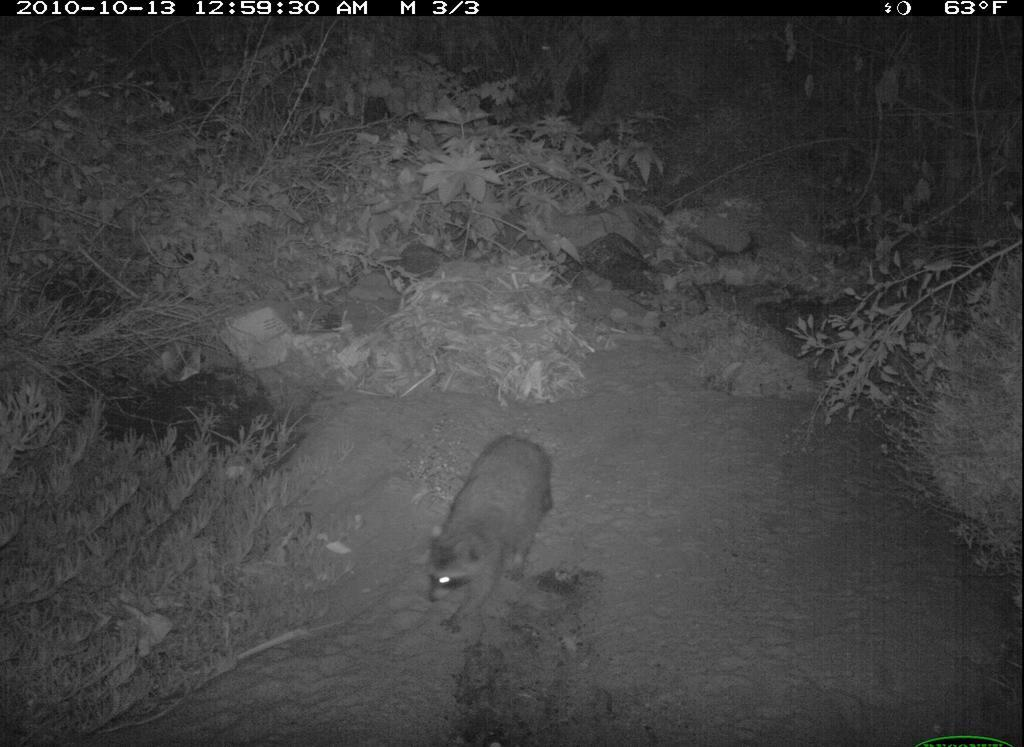raccoon: (417, 437, 560, 637)
